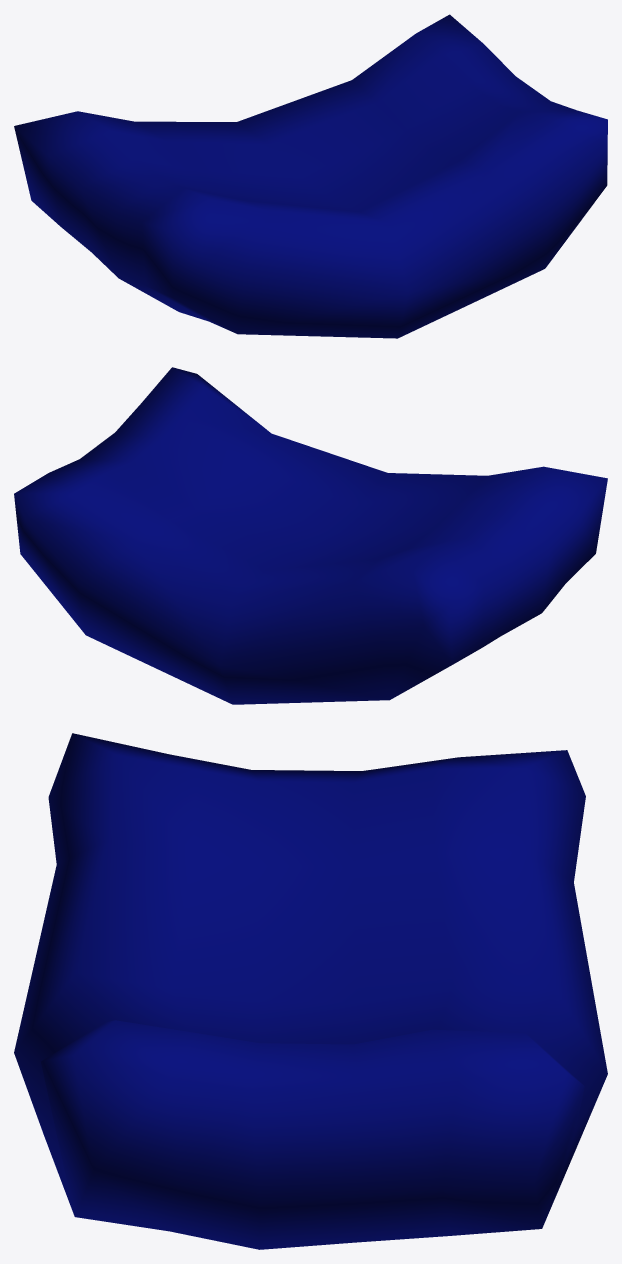
The model's file is BendedSandBag.FBX.
3 renders of one model, top to bottom at view 1: azimuth 30°, elevation 25°; view 2: azimuth 150°, elevation 25°; view 3: azimuth 270°, elevation 25°, orthographic. The views are drawn at different scales.
Parts seen in each view (by area): view 1: SandBag1; view 2: SandBag1; view 3: SandBag1.
Boxes of the visible parts, bbox=[...] form: SandBag1: bbox=[14, 14, 607, 338]; SandBag1: bbox=[14, 367, 607, 704]; SandBag1: bbox=[14, 733, 607, 1249].
Bounding box in the file's own units: 61.35 × 24.83 × 45.96.
